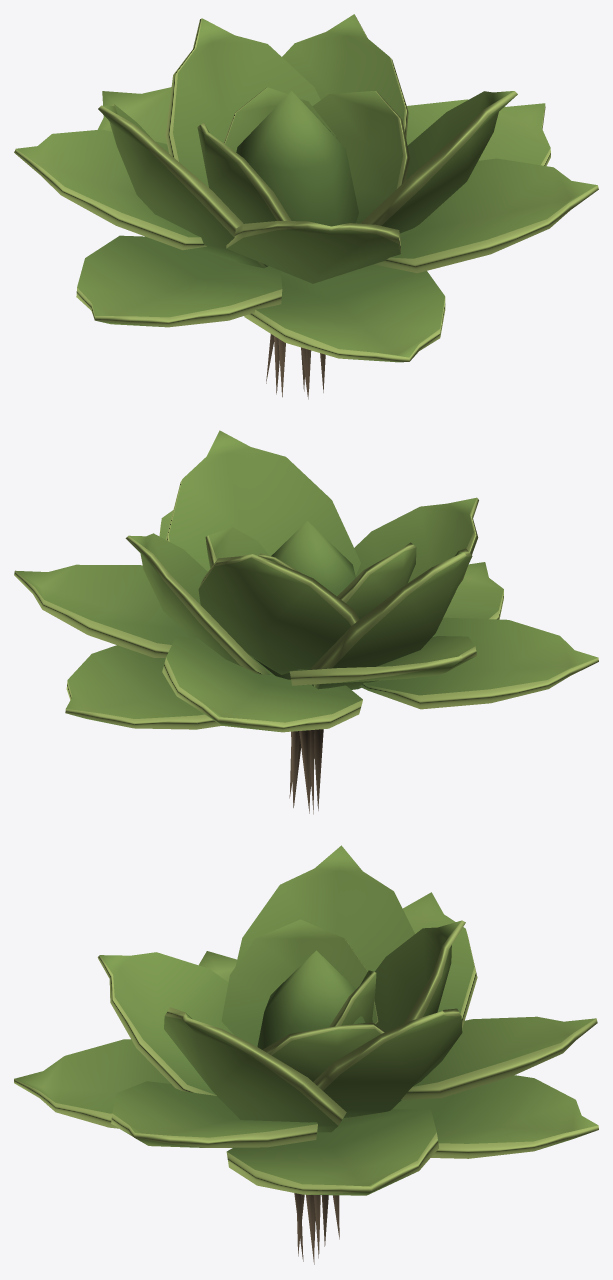
File: plants-cacti-succulents-green-rosette_v2.glb
3 views of the same model, one above another, from view 1: azimuth 30°, elevation 25°; view 2: azimuth 150°, elevation 25°; view 3: azimuth 270°, elevation 25° (orthographic). The views are drawn at different scales.
Visible parts, largest first — view 1: Green Rosette_v2; view 2: Green Rosette_v2; view 3: Green Rosette_v2.
Boxes of the visible parts, <box> form: Green Rosette_v2: <box>14,14,598,399</box>; Green Rosette_v2: <box>14,430,598,814</box>; Green Rosette_v2: <box>14,845,598,1264</box>.
Bounding box in the file's own units: 0.15 × 0.0894 × 0.1437.
